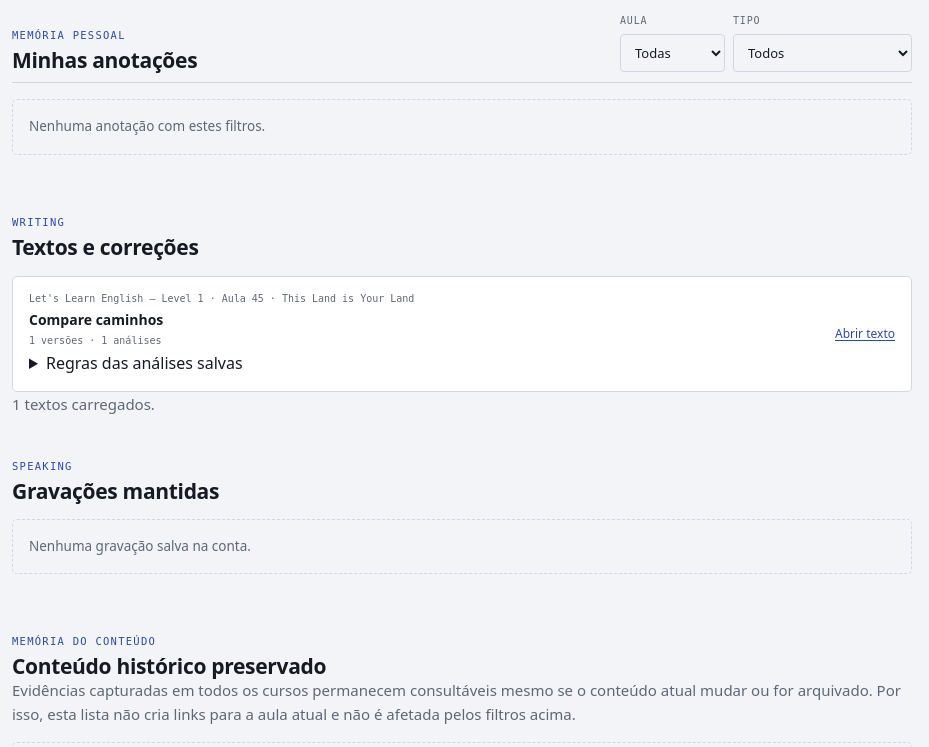
Test: NotebookPage › explica a regra antiga no histórico sem alterar o resultado salvo
(page scrolled)
Click the heading "Regras das análises salvas" at (144, 363), box left=46, top=352, right=243, bottom=374
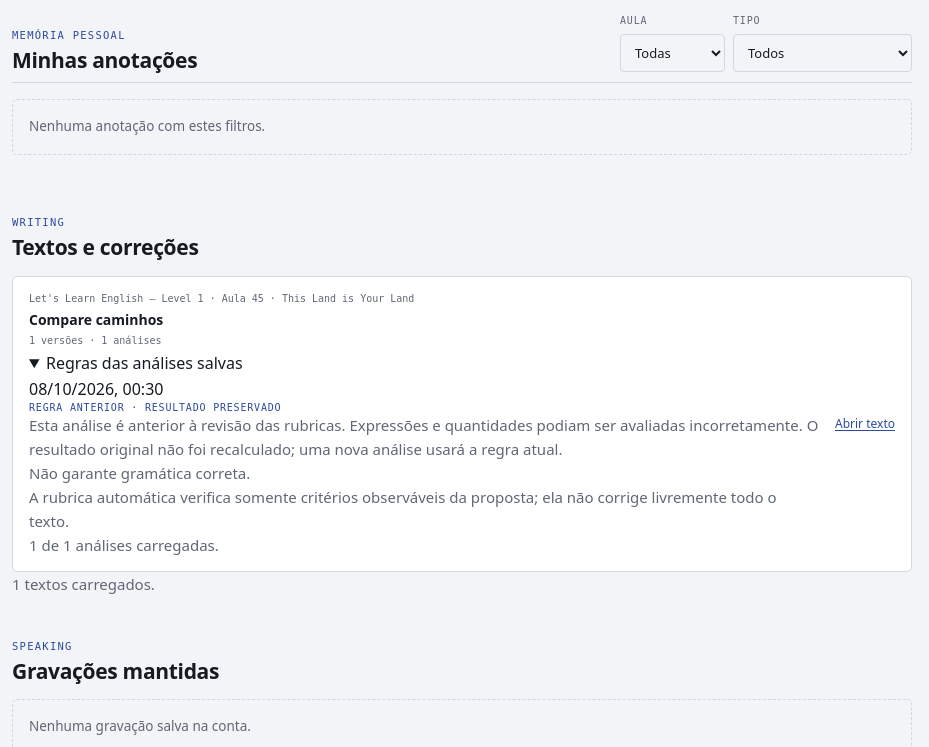
Now the text "Regra anterior · resultado preservado" is shown, box left=29, top=402, right=281, bottom=413
Now the text "O resultado original não foi recalculado" is shown, box left=29, top=415, right=818, bottom=459
